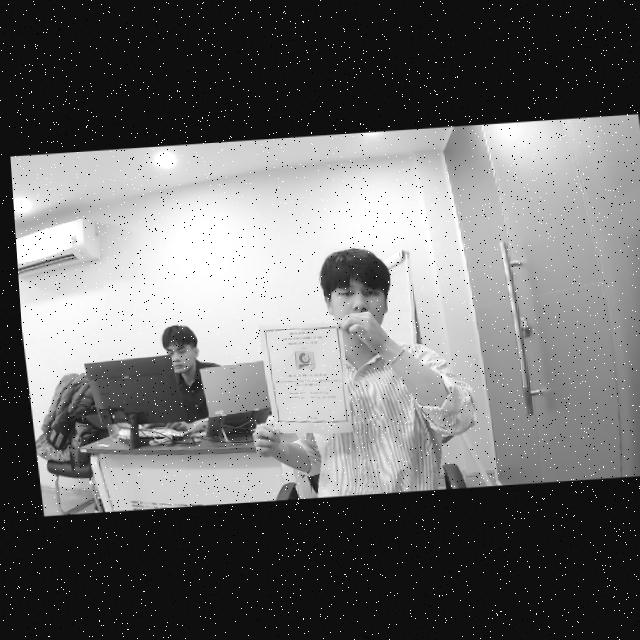document: (258, 321, 353, 433)
face: (324, 244, 403, 326), (165, 324, 205, 380)
